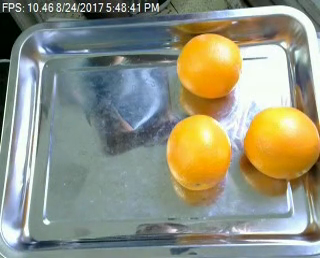Orange: (243, 105, 319, 180), (166, 113, 231, 188), (176, 33, 242, 99)
